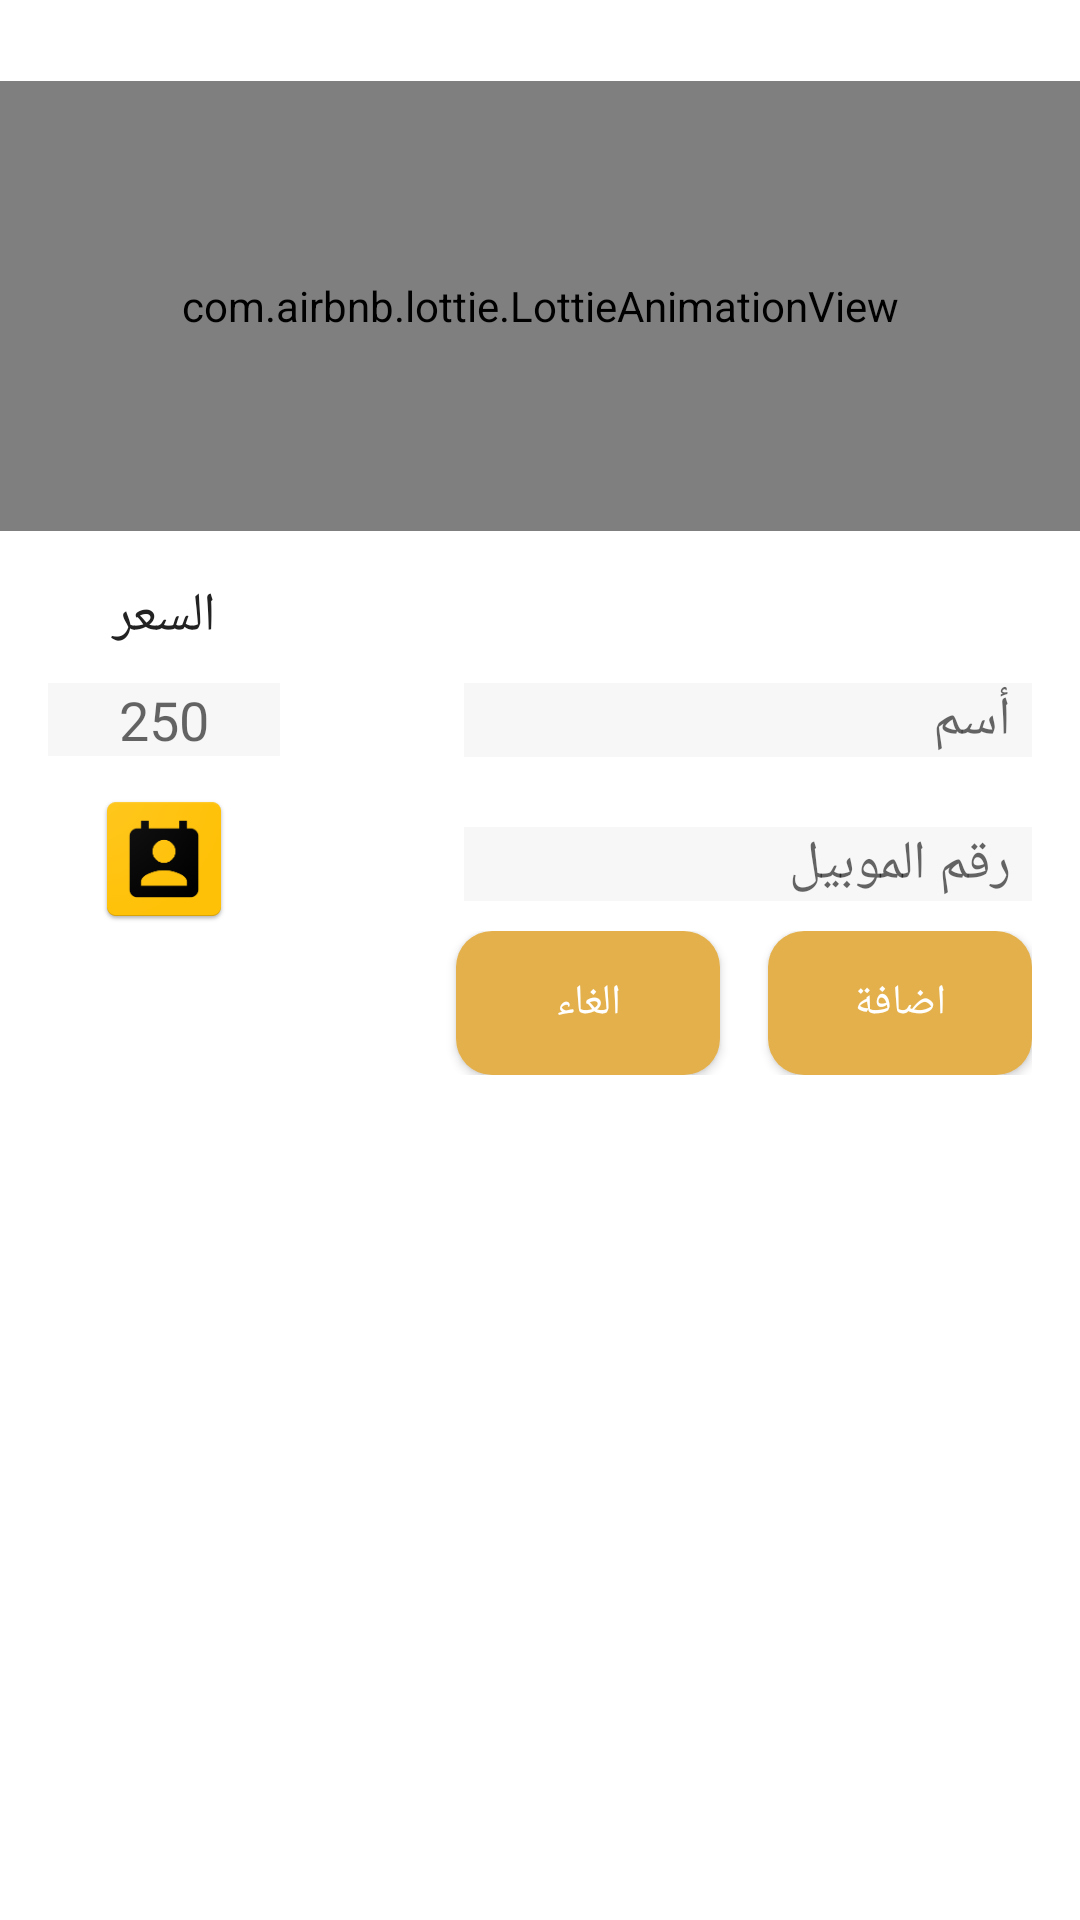

Locate icon controls on the screen. Image size 1080px x 1920px, boxes as (x1=x1, y1=y1, x2=x2, y2=y2).
contact: (x1=106, y1=802, x2=222, y2=919)
